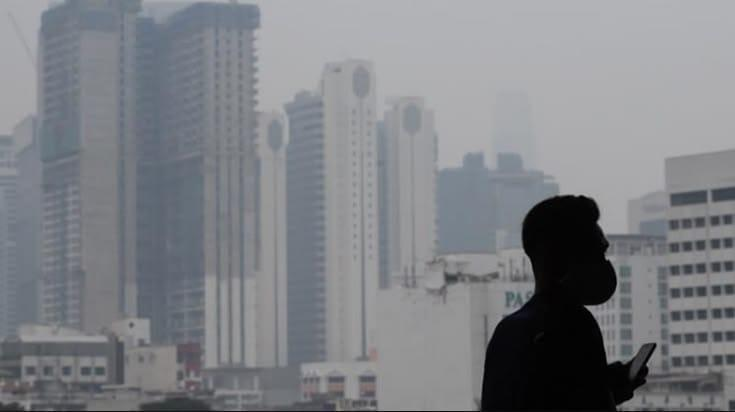Deteksi-Objek-Citra-Berasap: (0, 0, 735, 411)
Gedung: (133, 0, 261, 348), (36, 0, 144, 329), (285, 58, 377, 366), (374, 250, 530, 411), (199, 111, 289, 372), (662, 149, 734, 411), (436, 152, 561, 256), (598, 232, 667, 394), (379, 94, 437, 274), (0, 327, 126, 393)
Manusia: (480, 195, 650, 411)
